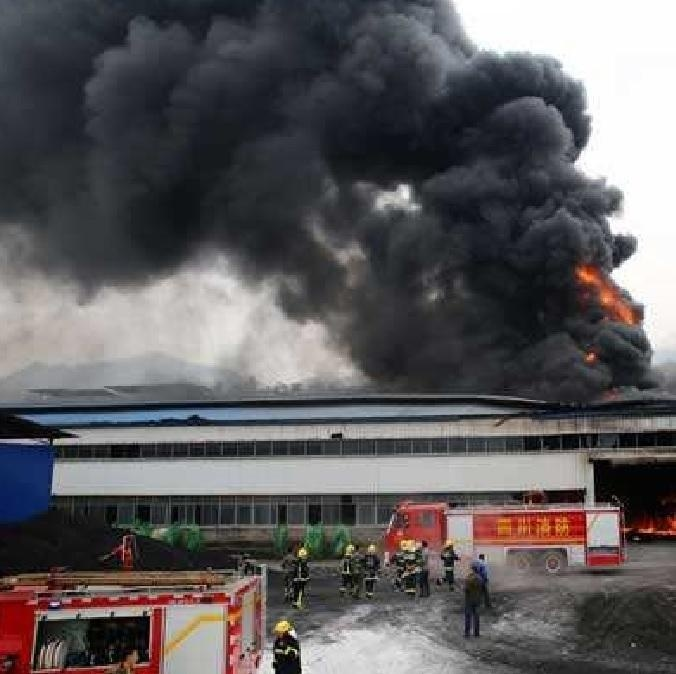fire: (578, 268, 637, 320), (627, 502, 675, 542)
